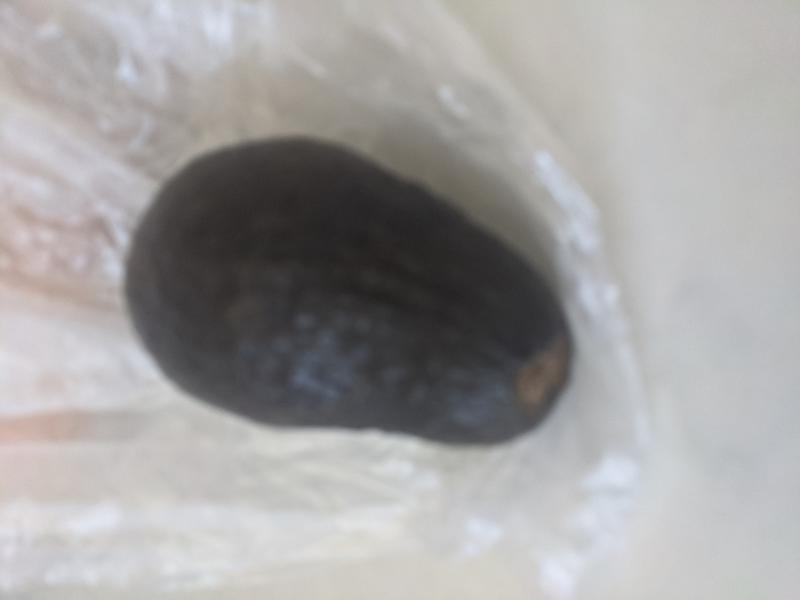avocado: (121, 136, 576, 447)
